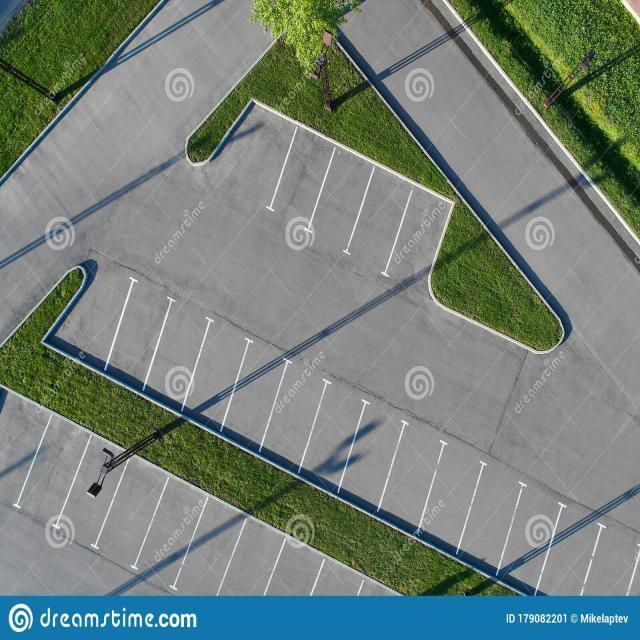free: (52, 431, 135, 552), (212, 99, 301, 209), (92, 457, 173, 574), (16, 412, 94, 532), (134, 474, 213, 592), (139, 294, 214, 417), (257, 357, 333, 478), (179, 315, 255, 434), (297, 376, 372, 496), (219, 334, 293, 455), (101, 276, 176, 394), (169, 493, 254, 597), (456, 459, 529, 579), (376, 417, 450, 535), (494, 482, 568, 600), (382, 182, 456, 299), (345, 163, 418, 278), (306, 145, 379, 258), (337, 400, 409, 514), (417, 440, 486, 557), (268, 126, 338, 236), (534, 503, 608, 595), (213, 515, 288, 596), (579, 525, 640, 595), (262, 536, 329, 596)
